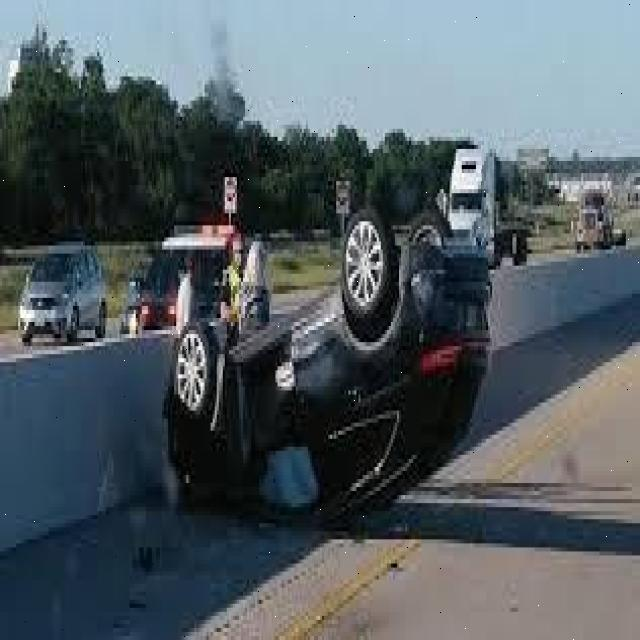severe: (163, 199, 495, 542)
